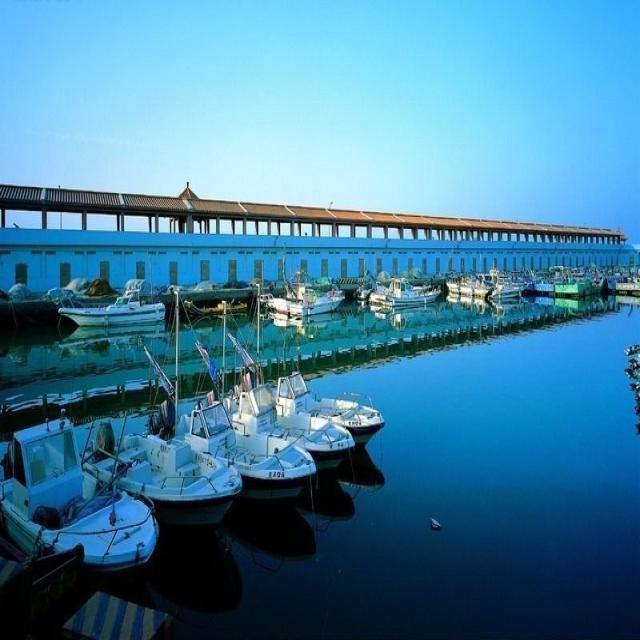houseboat: (12, 419, 163, 580), (106, 407, 243, 522), (184, 397, 318, 514), (221, 379, 365, 485), (286, 368, 396, 445), (59, 278, 162, 326), (262, 274, 334, 330), (369, 277, 431, 318), (447, 276, 510, 308)
